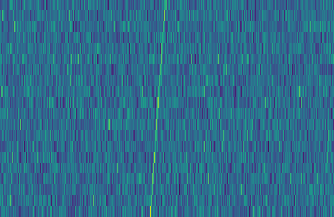signal: (146, 0, 169, 217)
